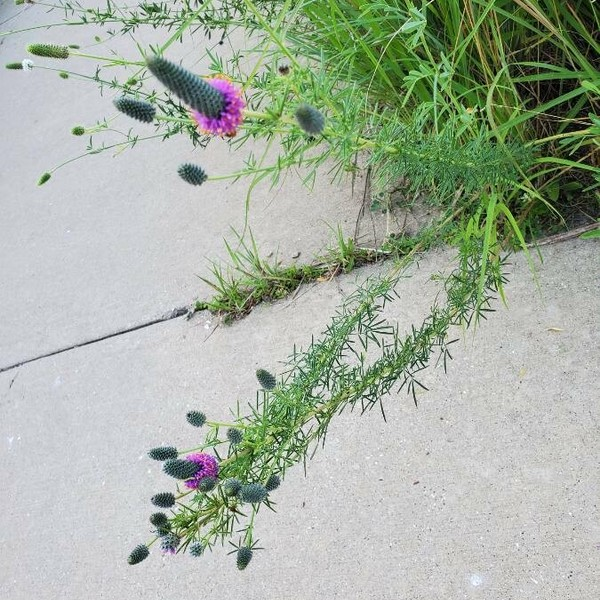obstacle: (91, 234, 453, 576), (183, 0, 568, 254)
